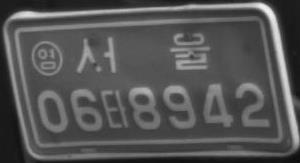0: (36, 89, 69, 134)
2: (234, 81, 271, 128)
4: (202, 83, 233, 128)
6: (70, 88, 103, 133)
8: (130, 86, 162, 130)
9: (162, 83, 197, 130)
서울_D: (75, 32, 210, 74)
영: (30, 40, 63, 76)
타: (104, 88, 130, 130)
